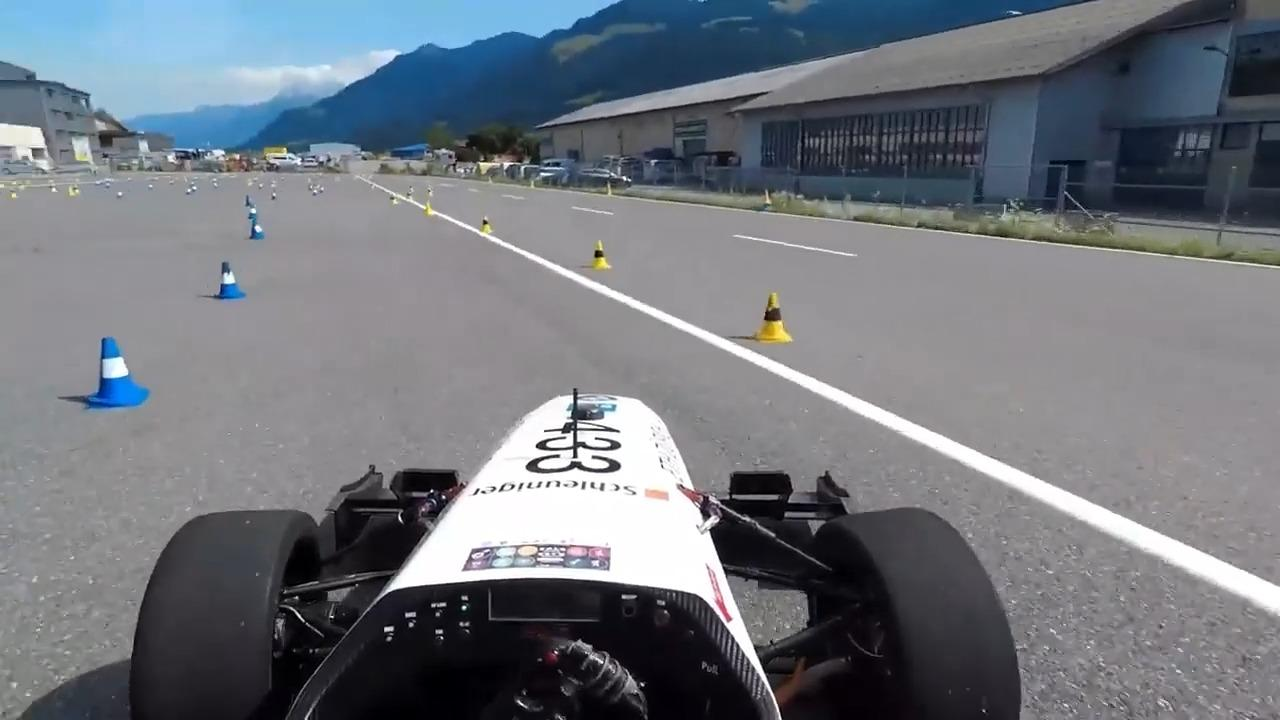blue_cone: (82, 329, 154, 415), (211, 257, 246, 300), (251, 218, 265, 242), (248, 200, 259, 223), (244, 193, 251, 209)
yellow_cone: (750, 292, 790, 344), (588, 239, 609, 270), (476, 215, 493, 234), (424, 201, 434, 215), (388, 193, 398, 206)
